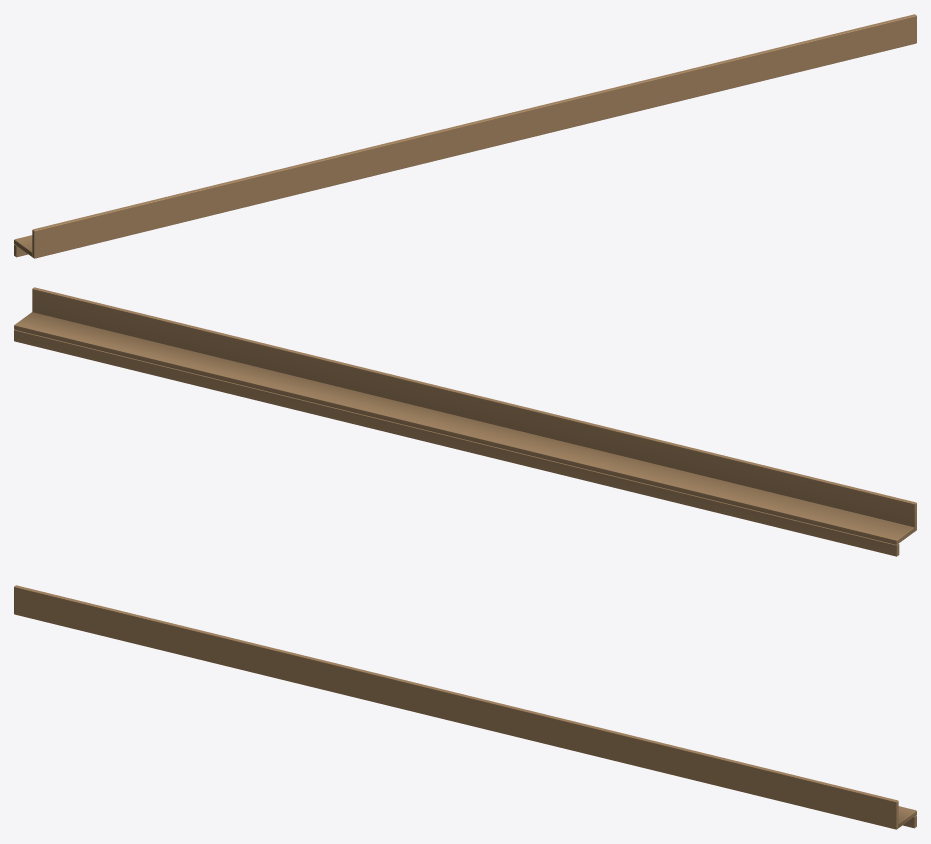
The model's file is light_g_cove.gltf.
The picture shows the model from 3 angles, top to bottom: view 1: azimuth 30°, elevation 25°; view 2: azimuth 150°, elevation 25°; view 3: azimuth 330°, elevation 25°; orthographic projection.
Parts seen in each view (by area): view 1: LightGCove_Lip_NoCollide; view 2: LightGCove_Lip_NoCollide, LightGCove_Board_NoCollide, LightGCove_Cleat_NoCollide; view 3: LightGCove_Lip_NoCollide.
Boxes of the visible parts, <box> form: LightGCove_Lip_NoCollide: <box>32,14,916,258</box>; LightGCove_Lip_NoCollide: <box>32,287,916,531</box>; LightGCove_Board_NoCollide: <box>14,312,914,544</box>; LightGCove_Cleat_NoCollide: <box>14,330,899,556</box>; LightGCove_Lip_NoCollide: <box>14,585,898,829</box>.
Size of the model in its own units: 4 by 0.1721 by 0.1601.
